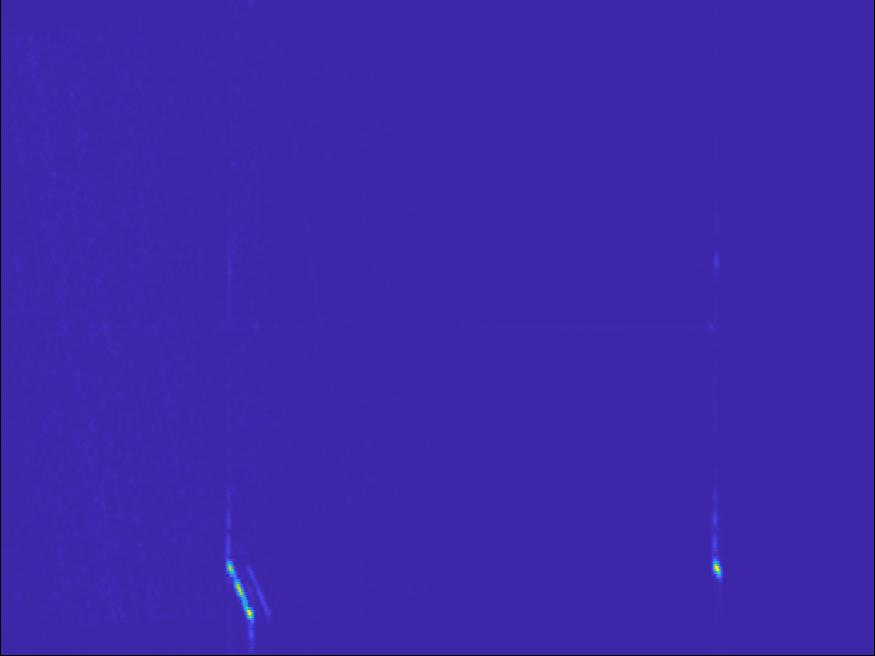Interference: (215, 523, 281, 635), (694, 522, 748, 603)
